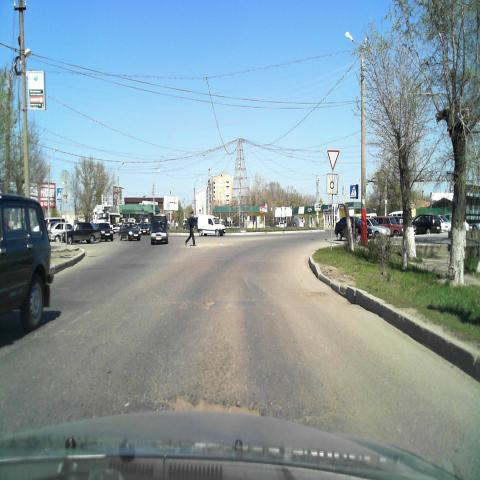8_13_1: (326, 173, 338, 195)
